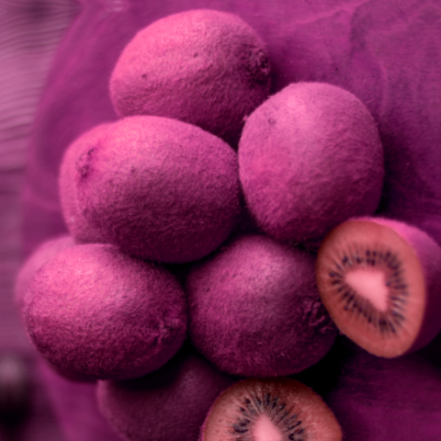kiwi: (65, 106, 241, 287), (232, 62, 385, 270), (179, 226, 348, 401), (10, 236, 186, 400), (103, 3, 292, 149)
